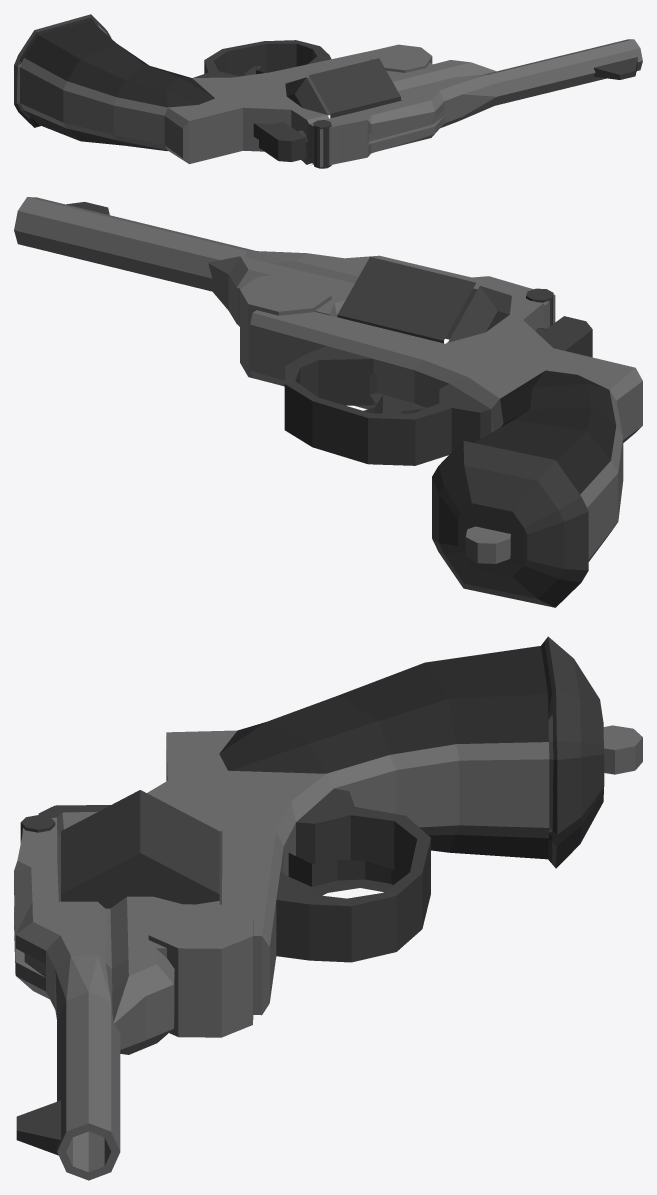
File: Type26_3D.glb
3 views of the same model, one above another, from view 1: azimuth 30°, elevation 25°; view 2: azimuth 150°, elevation 25°; view 3: azimuth 270°, elevation 25° (orthographic). The views are drawn at different scales.
Visible parts, largest first — view 1: Type26RevolverLowPoly; view 2: Type26RevolverLowPoly; view 3: Type26RevolverLowPoly.
Part boxes in pixels (x1=…): Type26RevolverLowPoly: x1=14, y1=14, x2=642, y2=168; Type26RevolverLowPoly: x1=14, y1=197, x2=642, y2=607; Type26RevolverLowPoly: x1=14, y1=636, x2=642, y2=1180.
Bounding box in the file's own units: 0.3483 × 0.0656 × 0.2083.
1 material, 1 textured.
